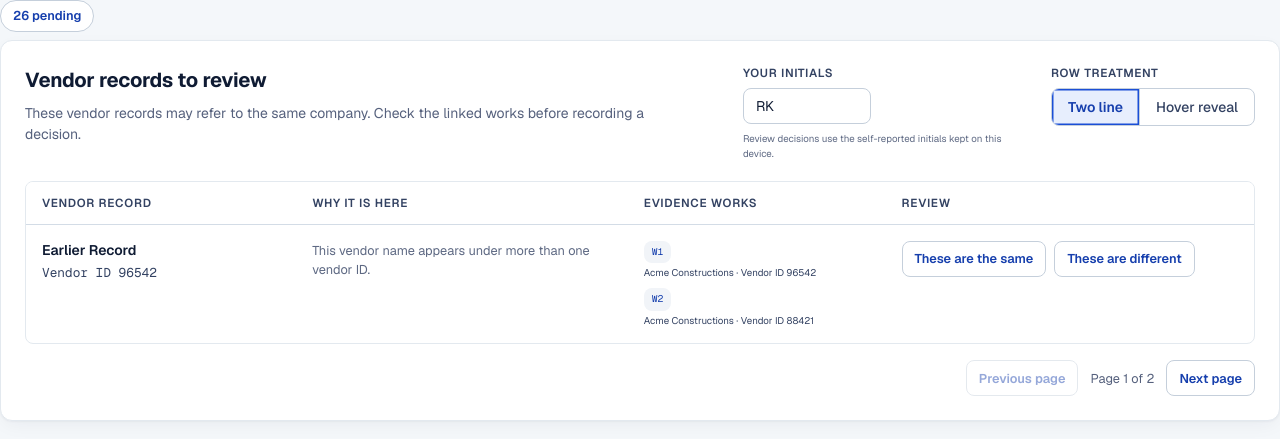
Test: AliasReviewQueue › returns to the previous page after reviewing its last row
This screenshot has width=1280, height=439.
Step 1. Click the button "Next page" → (1211, 378), box [1166,360,1255,396]
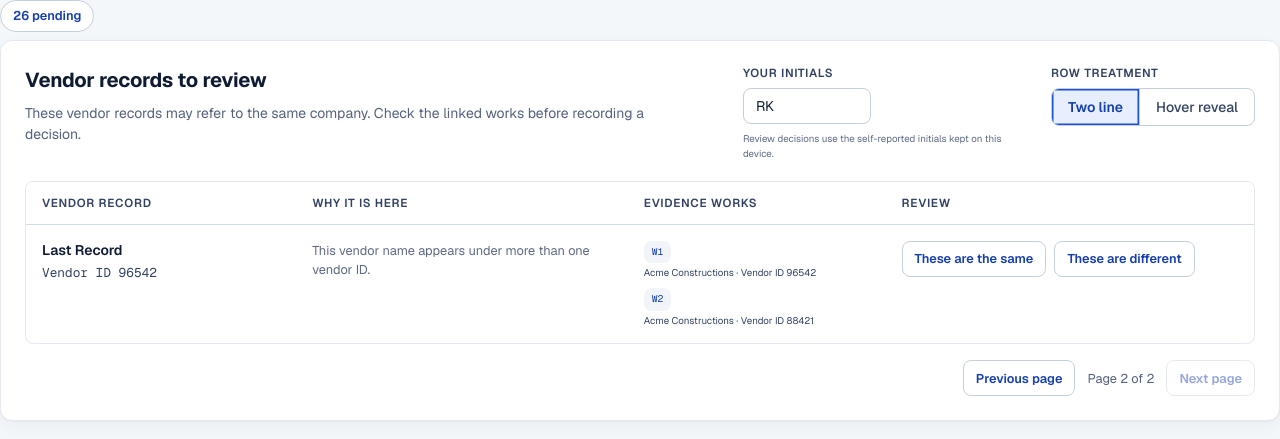
expect the text "Last Record" is shown: met, box [42,241,122,259]
Step 2. Click the button "These are the same" → (974, 259), box [902,241,1046,277]
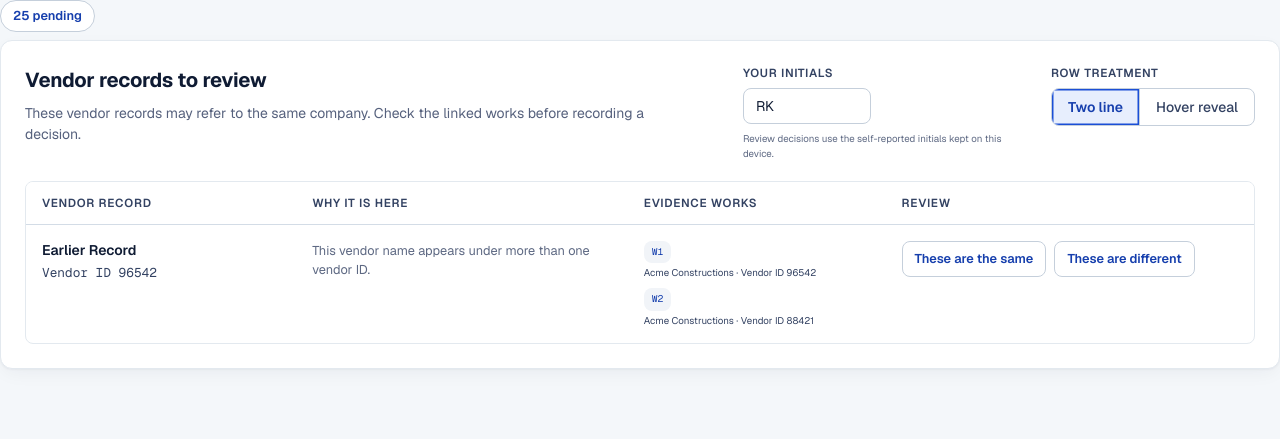
expect the text "Earlier Record" is shown: met, box [42,241,136,259]
